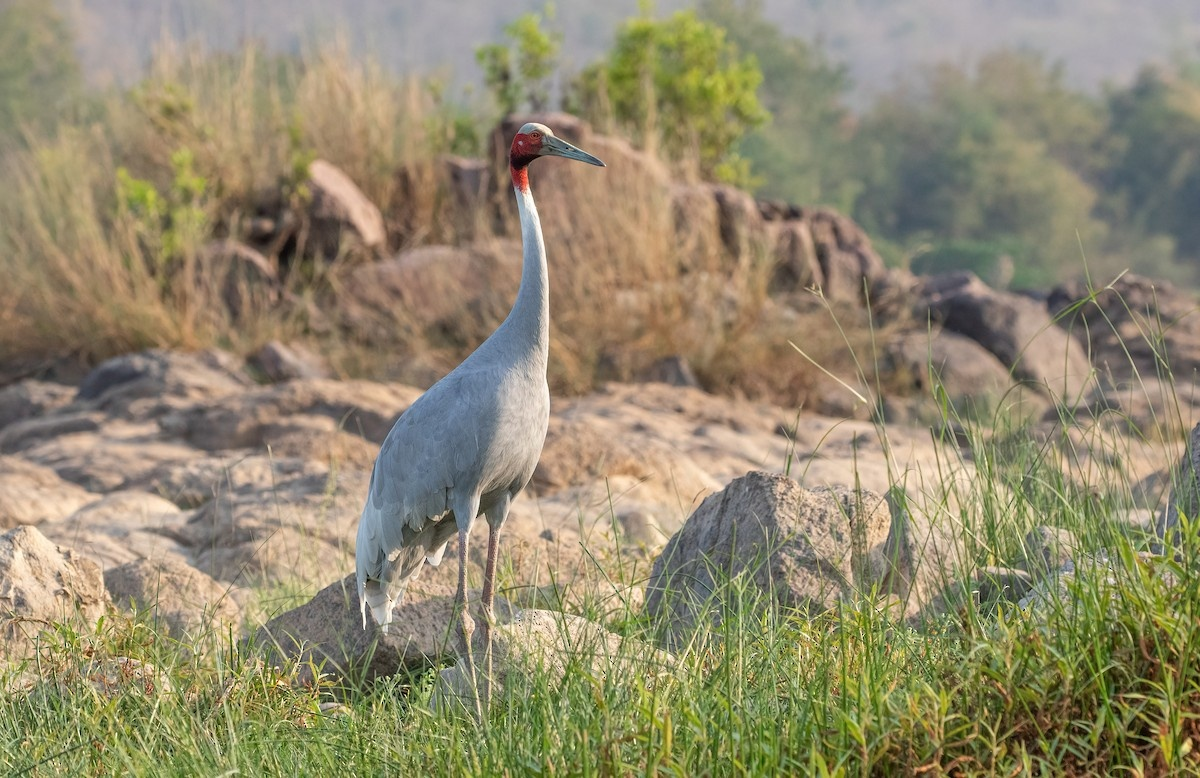crane: (353, 112, 613, 646)
